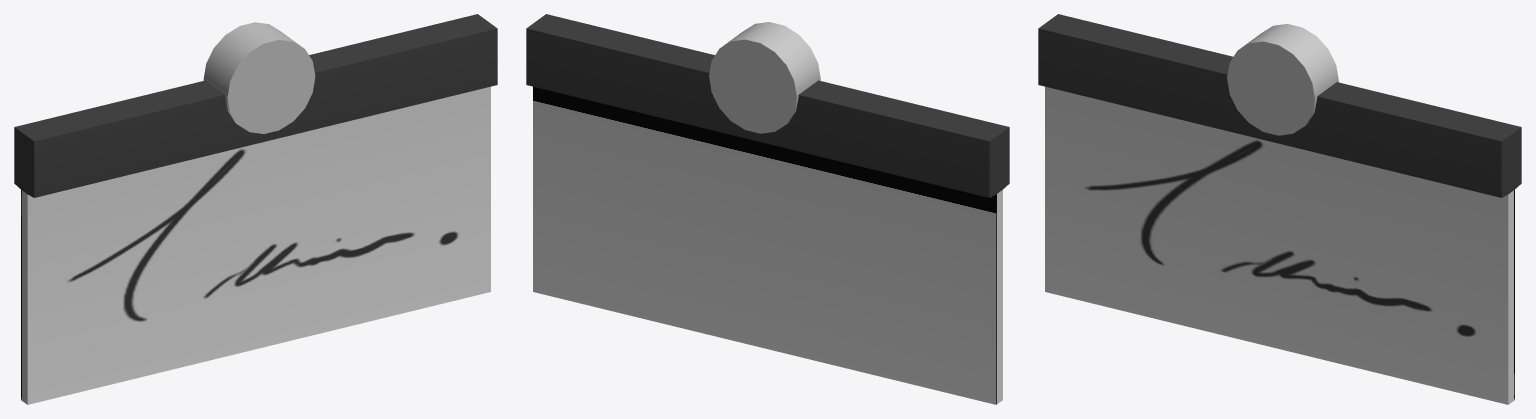
Rendered from NPCNameTag.fbx.
3 renders of one model, left to right at view 1: azimuth 30°, elevation 25°; view 2: azimuth 150°, elevation 25°; view 3: azimuth 330°, elevation 25°, orthographic.
Parts seen in each view (by area): view 1: NameTag; view 2: NameTag; view 3: NameTag.
Part boxes in pixels (left/top/right/bottom): NameTag: left=14, top=14, right=497, bottom=404; NameTag: left=526, top=14, right=1009, bottom=404; NameTag: left=1038, top=14, right=1521, bottom=404.
Size of the model in its own units: 0.0687 by 0.0443 by 0.00618.
Materials: 1 (1 with a texture image).
